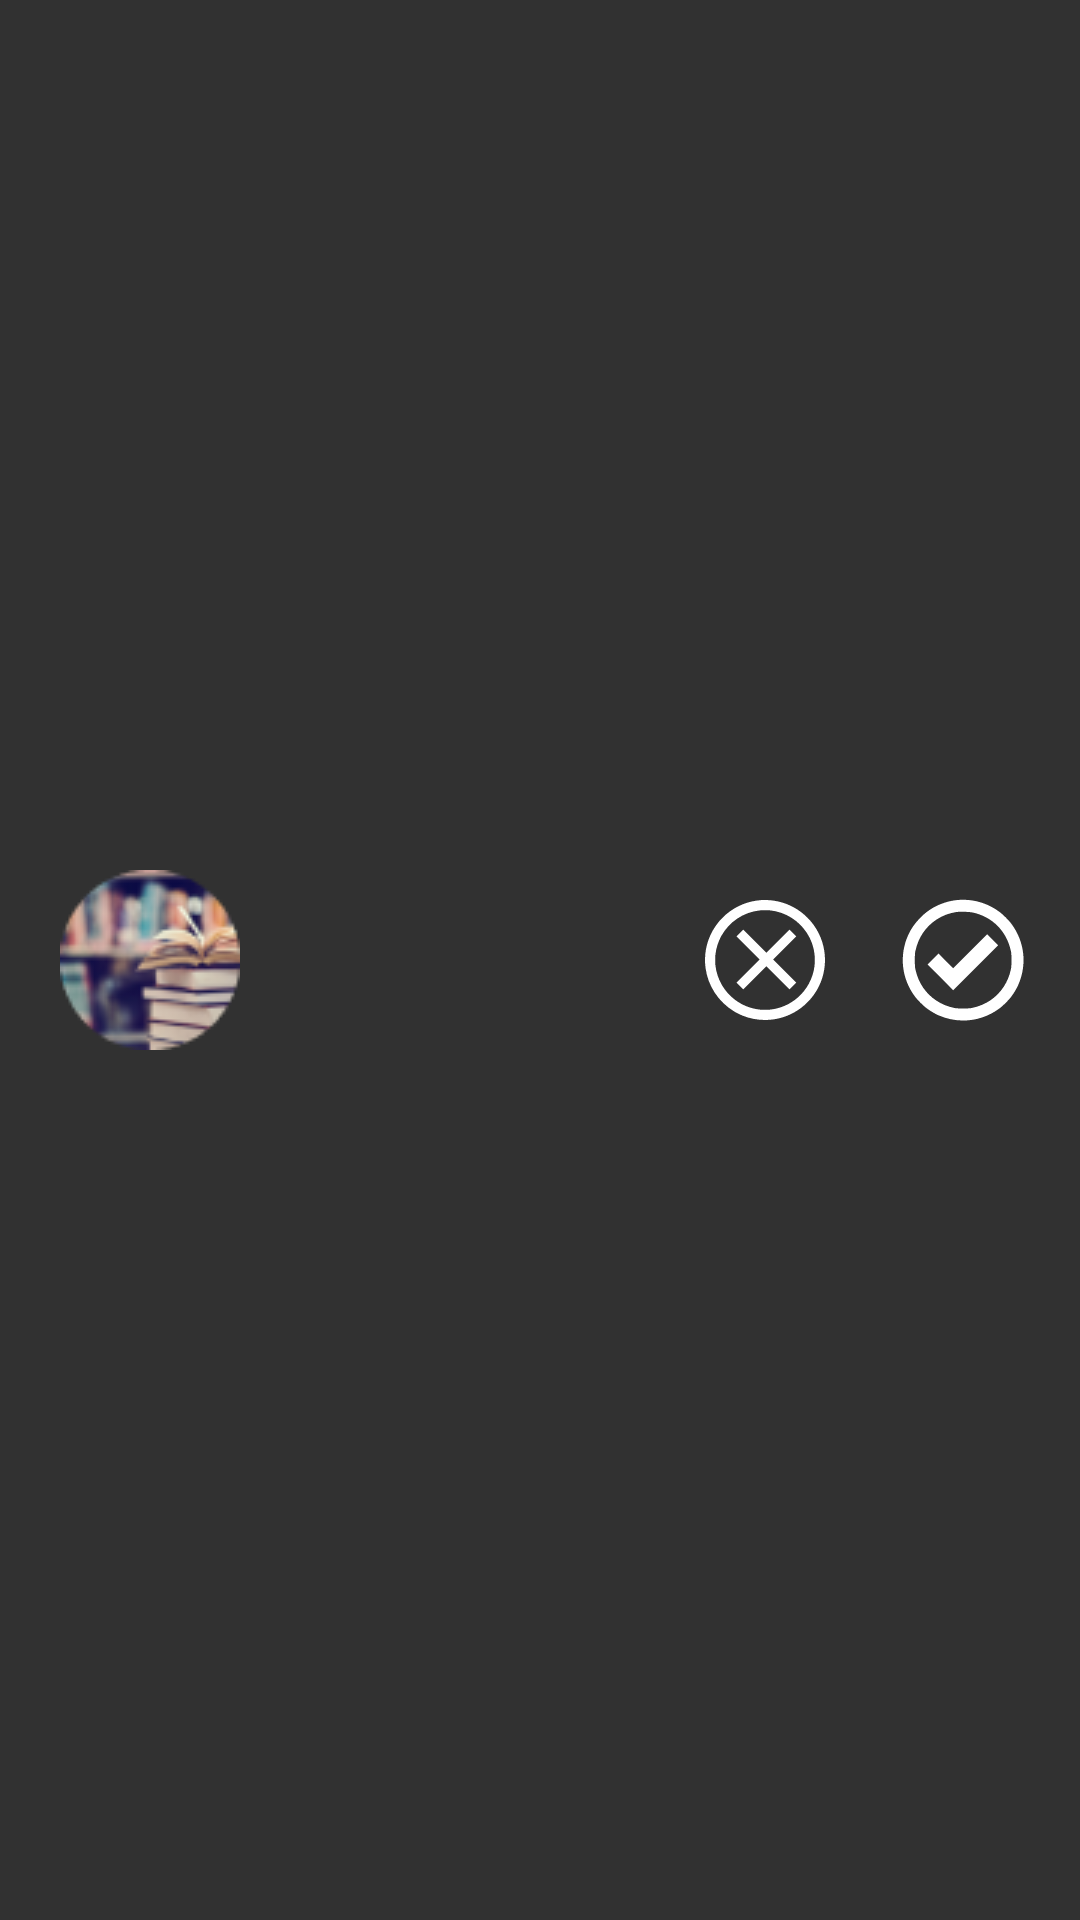

Point at icon controls on the screen. Image size 1080x1920, points as [x,y].
cross circle: [765,960]
right circle: [963,960]
